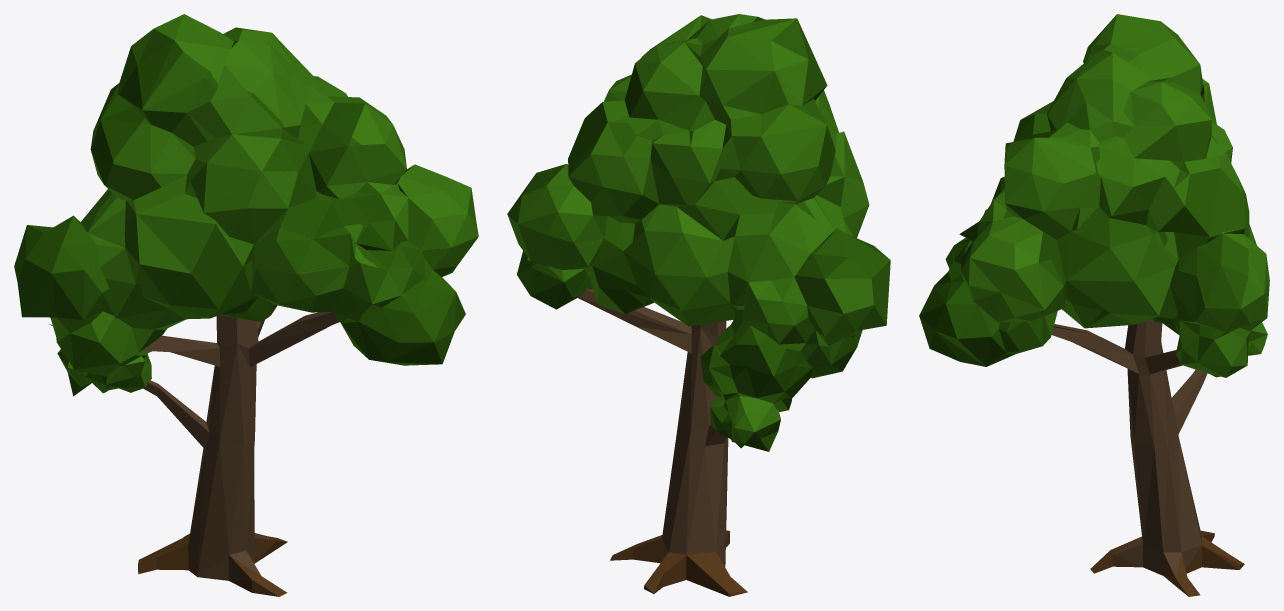
The model's file is tree.obj.
3 renders of one model, left to right at view 1: azimuth 30°, elevation 25°; view 2: azimuth 150°, elevation 25°; view 3: azimuth 270°, elevation 25°, orthographic. The views are drawn at different scales.
Parts seen in each view (by area): view 1: _6_tree_Cube.003; view 2: _6_tree_Cube.003; view 3: _6_tree_Cube.003.
Boxes of the visible parts, x1,y1,x2,y2 form: _6_tree_Cube.003: (14, 14, 478, 596); _6_tree_Cube.003: (507, 14, 890, 596); _6_tree_Cube.003: (919, 14, 1269, 596).
Bounding box in the file's own units: 1.74 × 2.6 × 1.6.
Materials: 1 (1 with a texture image).
